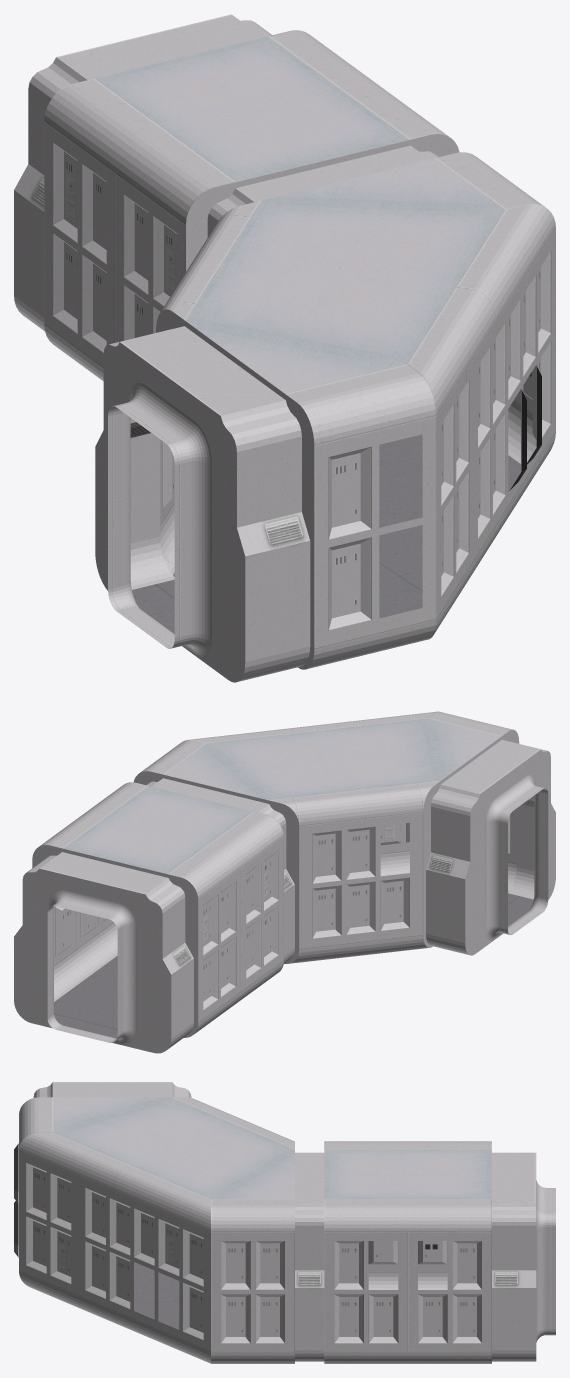
Rendered from thm_spc_corvette_dungeon_r25_hall25_mesh_r25.fbx.
3 views of the same model, one above another, from view 1: azimuth 30°, elevation 25°; view 2: azimuth 150°, elevation 25°; view 3: azimuth 270°, elevation 25° (orthographic). The views are drawn at different scales.
Parts seen in each view (by area): view 1: mesh_node; view 2: mesh_node; view 3: mesh_node.
Boxes of the visible parts, x1=… form: mesh_node: x1=14, y1=14, x2=555, y2=682; mesh_node: x1=14, y1=711, x2=555, y2=1053; mesh_node: x1=14, y1=1082, x2=555, y2=1363.
Bounding box in the file's own units: 7 × 3.5 × 11.
